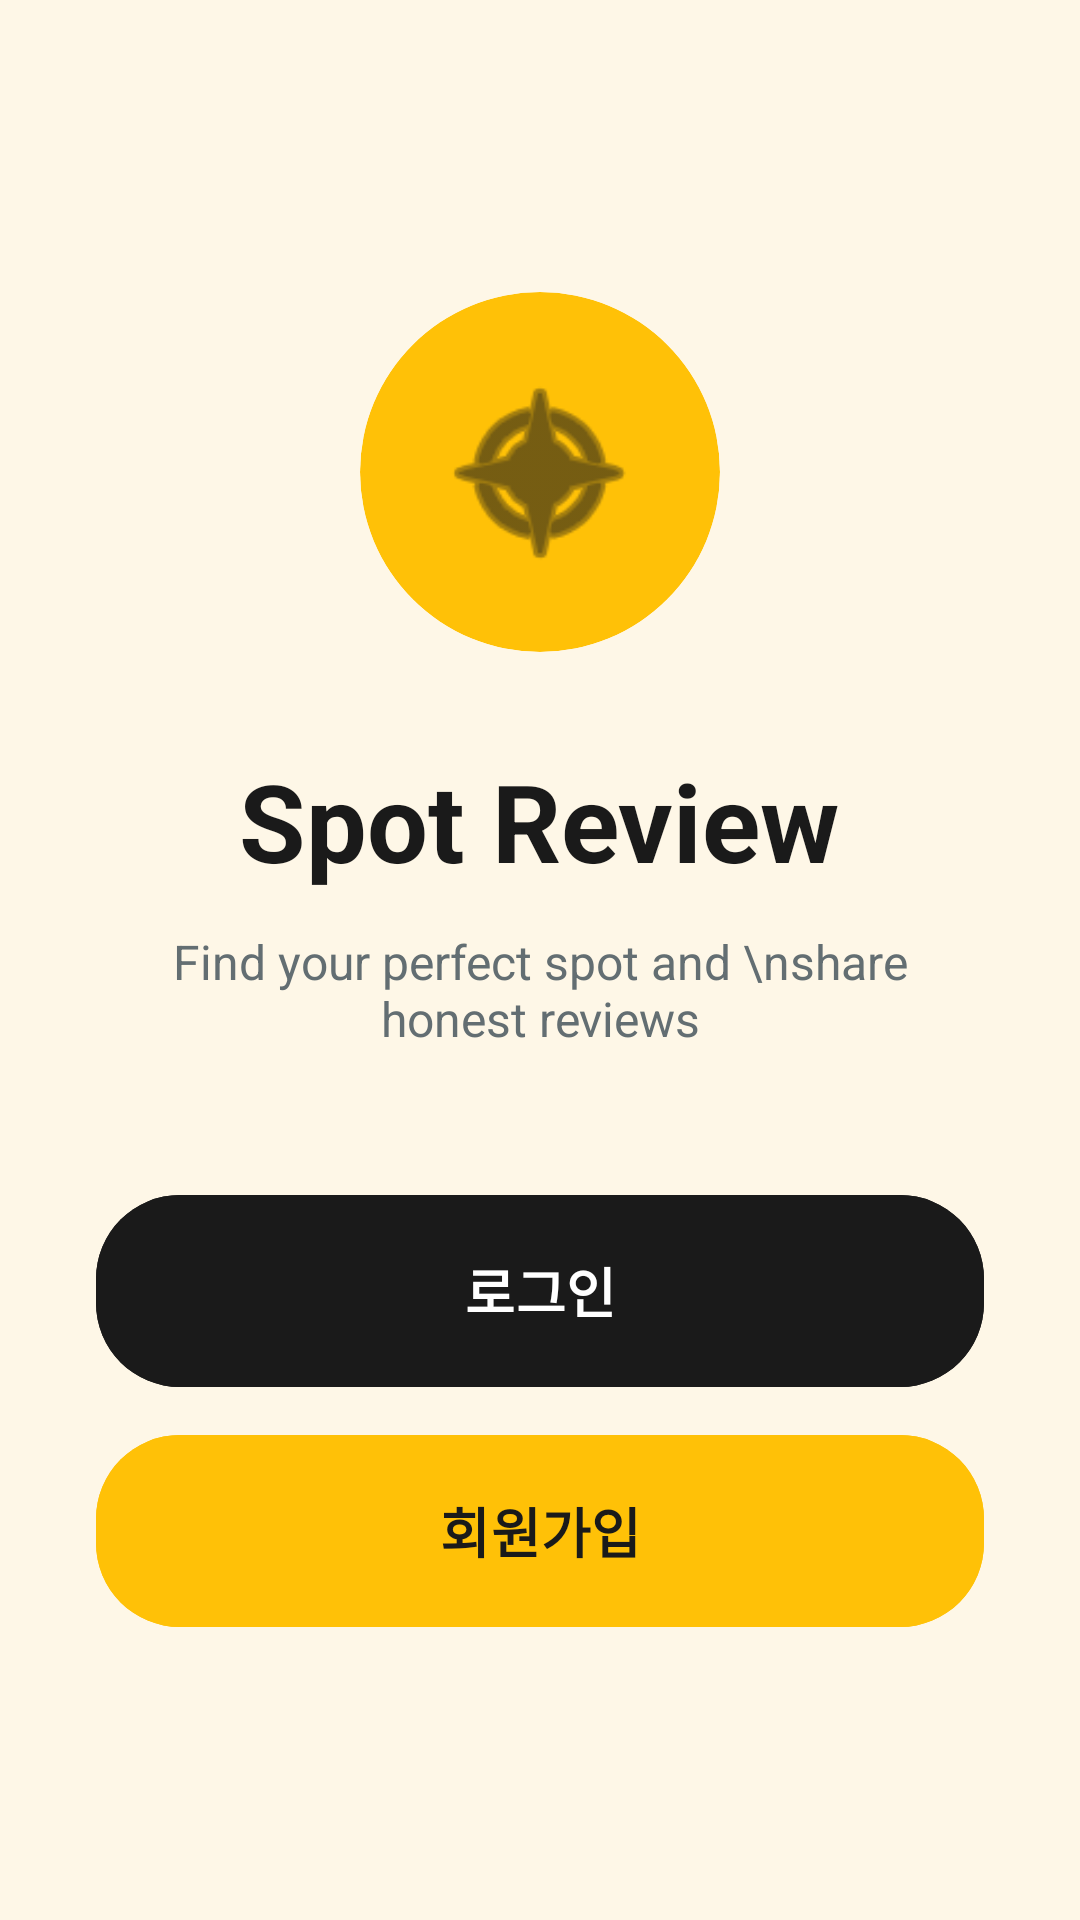

Icon bounding boxes for this 1080px x 1920px phone screenshot, format region(x1, y1, x2, y2):
compass: region(360, 292, 720, 652)
